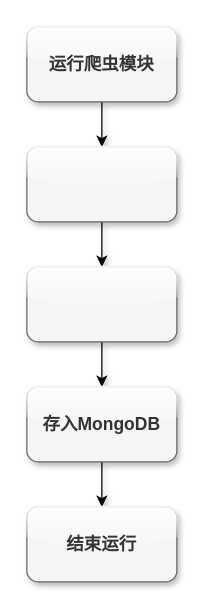
The diagram is 206 pixels wide and 613 high, and some of its shapes have lost their labels. The shapes that lost their labels are listed below. From the top down, each one's centre as x and y in pixels, then its label:
the point at 102,186: 初始化爬虫程序
the point at 102,306: 爬取岗位信息
